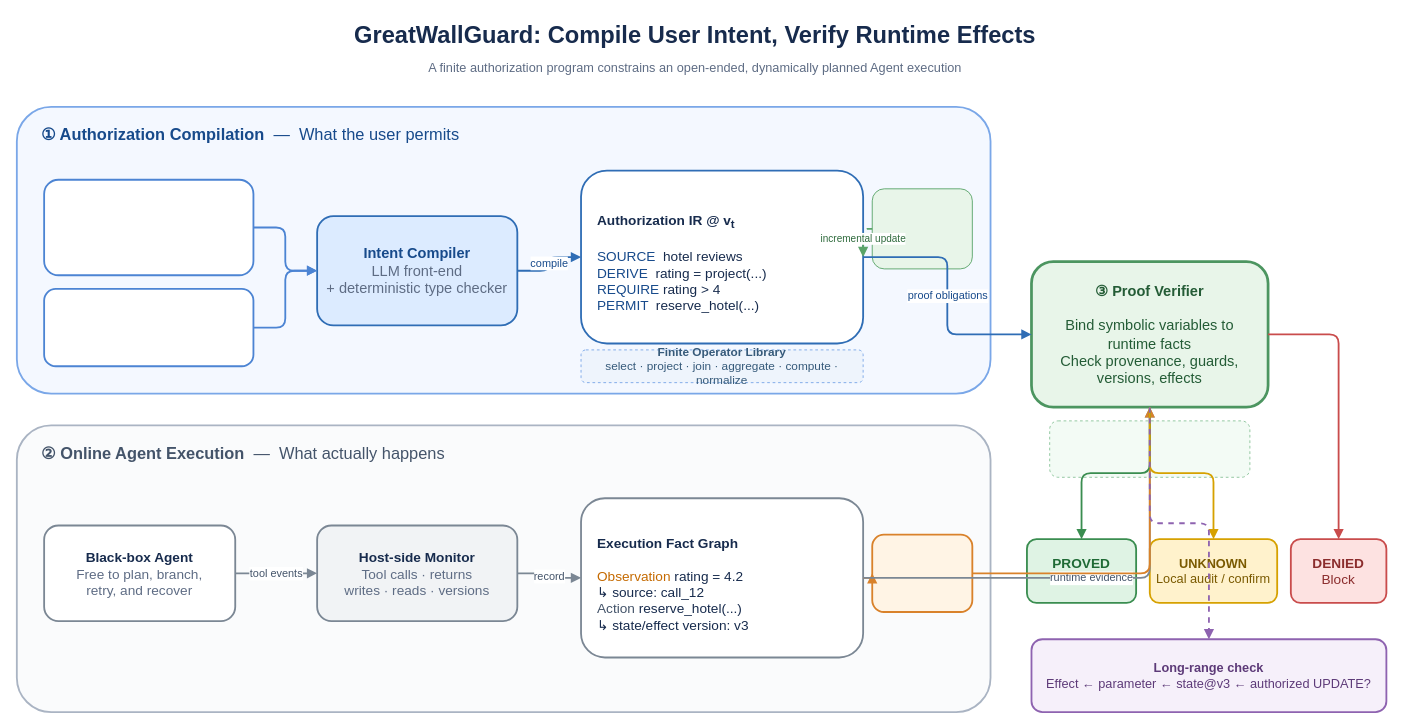
The diagram is 1402 pixels wide and 728 high, and some of its shapes have lost their labels. Here are the shapes that lost their labels. From the top down, the box of each, then its label:
(43, 178, 254, 276): Trusted User Messages “Book the hotel only if its rating is above 4.”
(871, 188, 972, 269): New trusted message GRANT · REFINE · REVOKE
(43, 288, 254, 367): Tool Schemas reserve_hotel(hotel, start_day, end_day)
(1049, 420, 1250, 477): $rating ← call_12.rating = 4.2 4.2 > 4 ✓
(871, 533, 973, 612): Pending Effect reserve_hotel(...)
